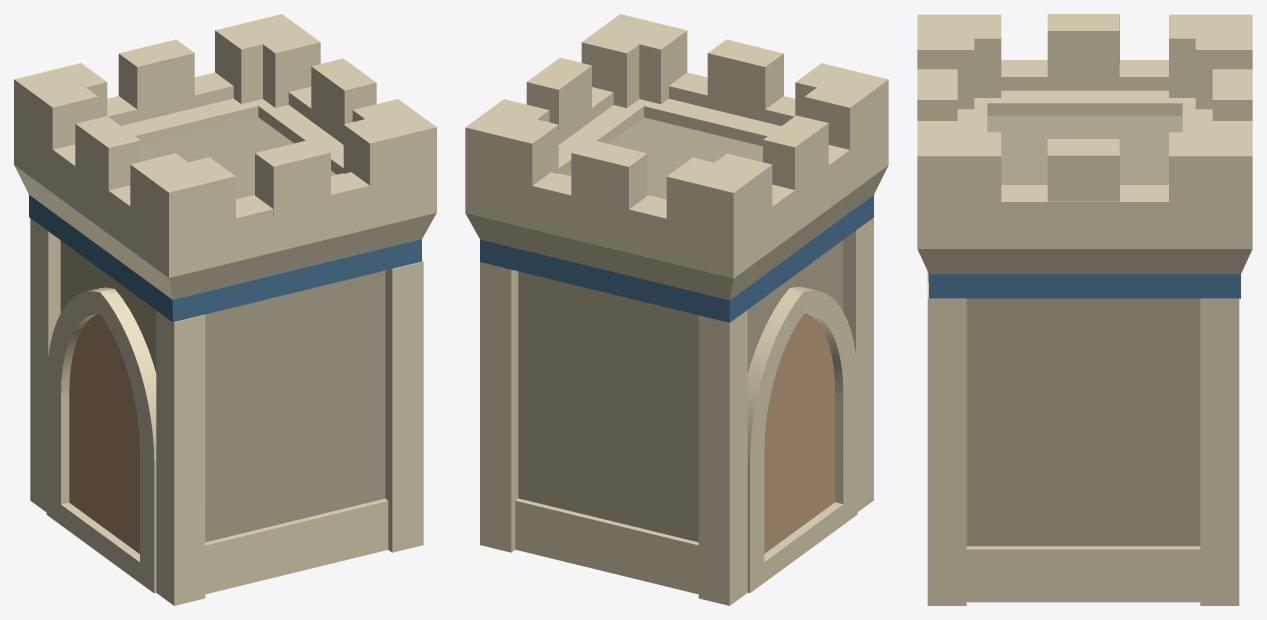
File: castle_lvl1.fbx
3 views of the same model, side by side, from view 1: azimuth 30°, elevation 25°; view 2: azimuth 150°, elevation 25°; view 3: azimuth 270°, elevation 25° (orthographic). The views are drawn at different scales.
Parts seen in each view (by area): view 1: tower1; view 2: tower1; view 3: tower1.
Part boxes in pixels (x1,y1,x2,y2): tower1: (14, 14, 436, 605); tower1: (465, 14, 888, 605); tower1: (917, 14, 1252, 605).
Size of the model in its own units: 169 by 253 by 169.
